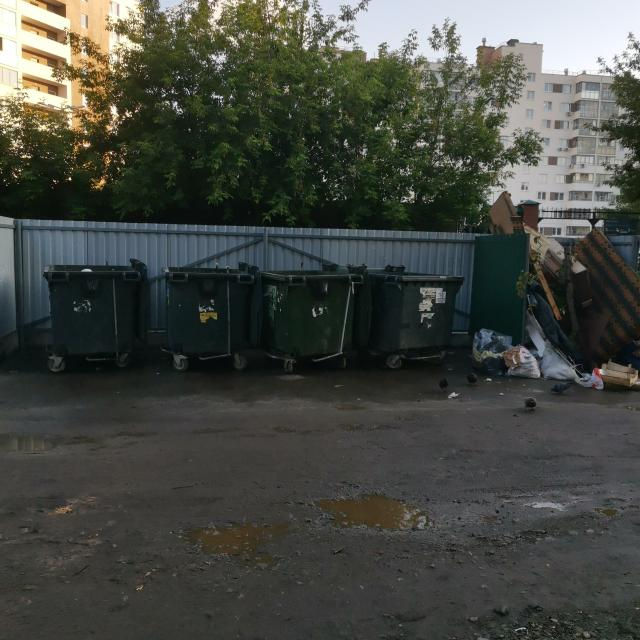bin: (41, 260, 150, 374), (259, 266, 358, 377), (158, 263, 256, 370), (360, 268, 458, 373)
plastic: (469, 324, 640, 392), (526, 229, 640, 318)
